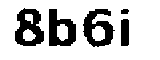6: (81, 5, 114, 51)
8: (11, 6, 45, 51)
b: (47, 6, 77, 52)
i: (118, 4, 132, 50)
